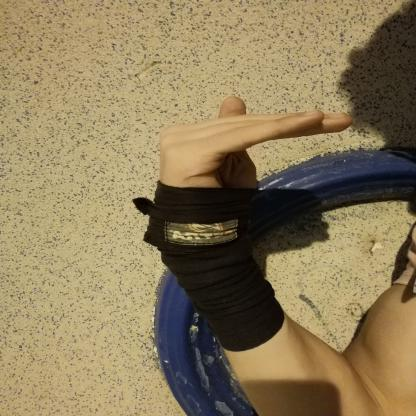KHAA: (132, 87, 380, 272)
